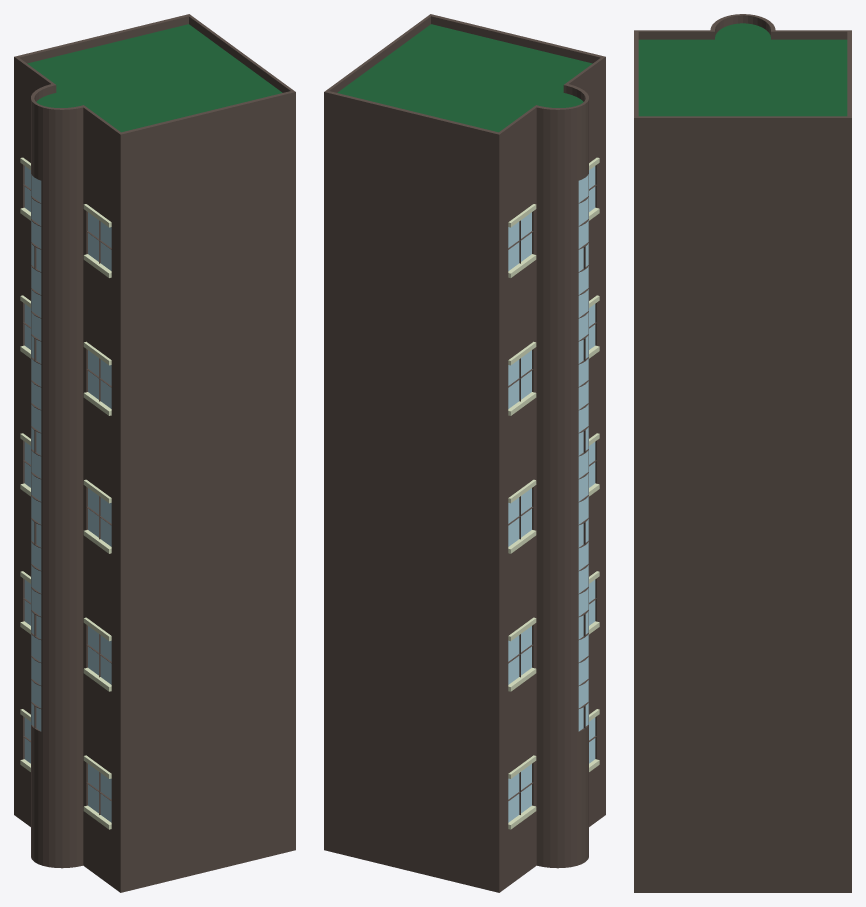
File: 6building_9_inner.glb
3 renders of one model, left to right at view 1: azimuth 30°, elevation 25°; view 2: azimuth 150°, elevation 25°; view 3: azimuth 270°, elevation 25°, orthographic. The views are drawn at different scales.
Parts seen in each view (by area): view 1: buinding5_in; view 2: buinding5_in; view 3: buinding5_in.
Part boxes in pixels (x1=…): buinding5_in: x1=14, y1=14, x2=295, y2=892; buinding5_in: x1=324, y1=14, x2=605, y2=892; buinding5_in: x1=634, y1=14, x2=851, y2=892.
Size of the model in its own units: 47.4 by 165 by 42.
